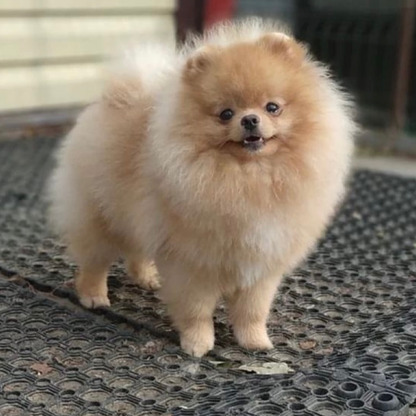Pomeranian: (55, 25, 362, 372)
